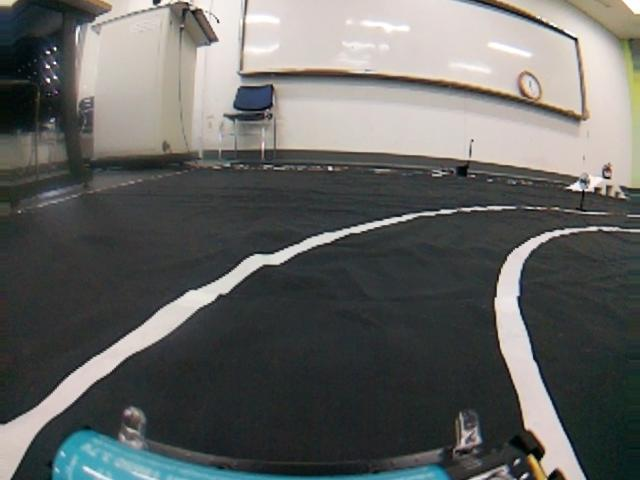right: (3, 200, 640, 478)
